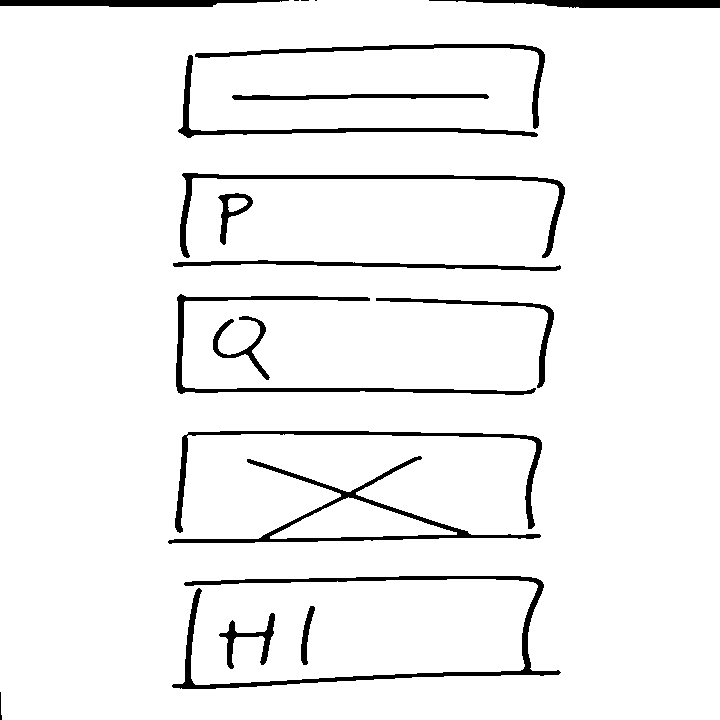button: (178, 42, 554, 147)
heading1: (169, 574, 564, 692)
paragraph: (169, 165, 578, 277)
picture: (169, 424, 548, 553)
search bar: (164, 289, 558, 401)
